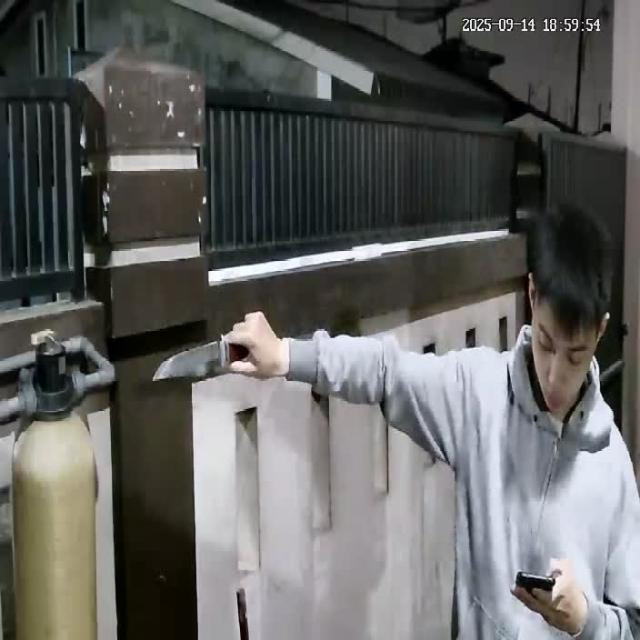senjata_tajam: (150, 335, 229, 385)
